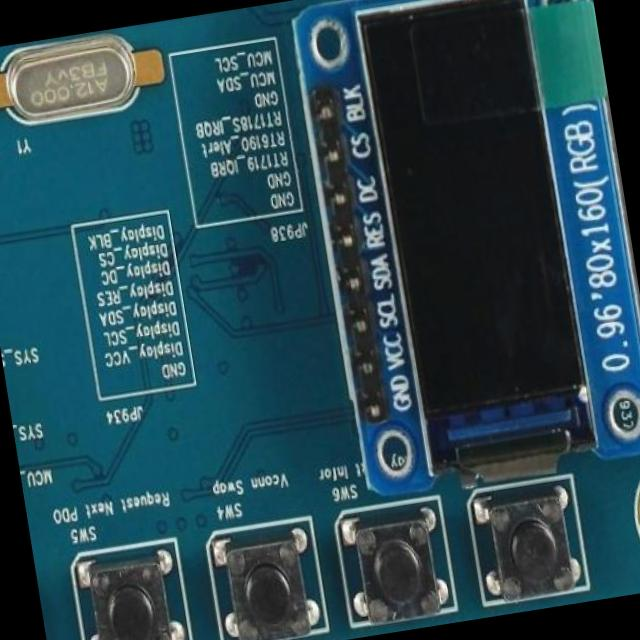connector: (305, 86, 394, 437)
